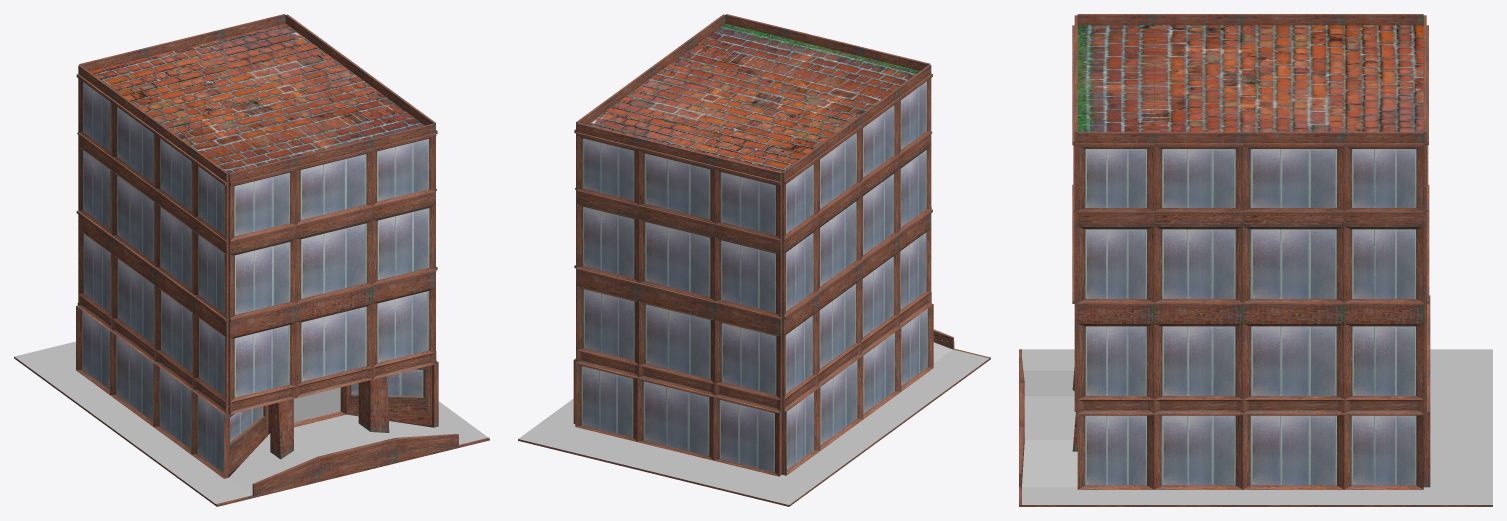
File: building.gltf
The picture shows the model from 3 angles, left to right: view 1: azimuth 30°, elevation 25°; view 2: azimuth 150°, elevation 25°; view 3: azimuth 270°, elevation 25°; orthographic projection. The views are drawn at different scales.
Parts seen in each view (by area): view 1: Cube; view 2: Cube; view 3: Cube.
Part boxes in pixels (x1=…): Cube: x1=14, y1=14, x2=489, y2=506; Cube: x1=518, y1=14, x2=990, y2=506; Cube: x1=1019, y1=14, x2=1492, y2=506.
Bounding box in the file's own units: 4.89 × 5.24 × 6.3.
